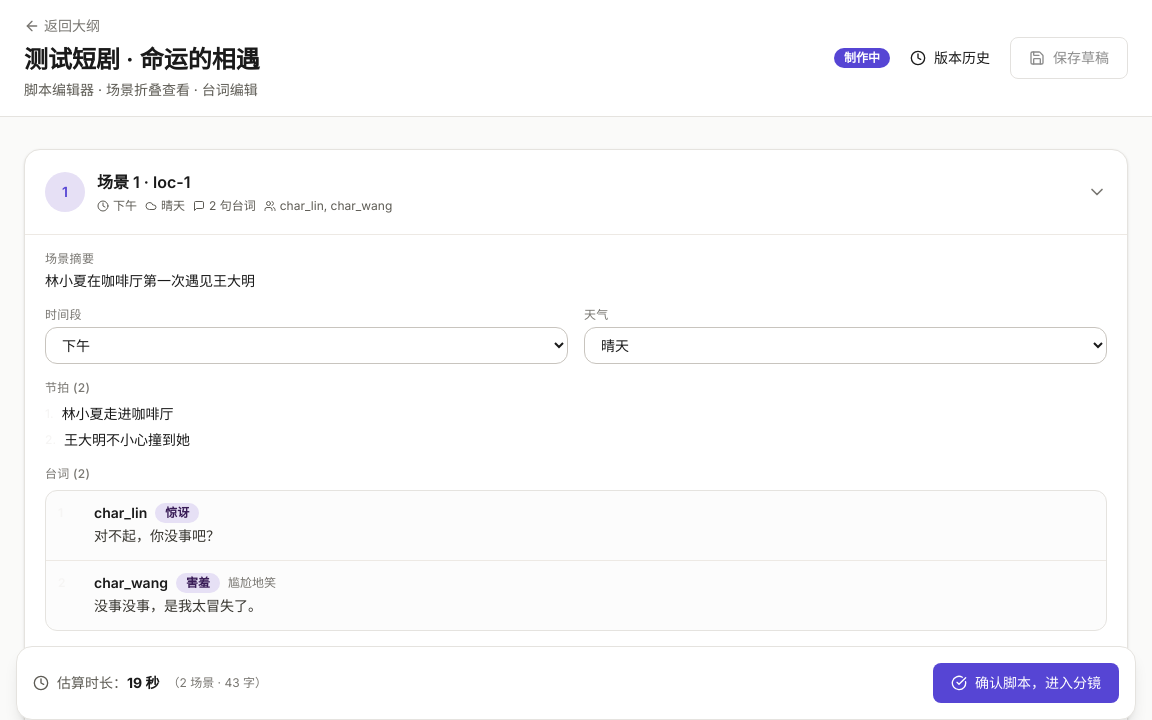
ScriptPage › Editing › marks dirty when scene summary is edited
Note: Click to edit the scene summary
Click the button "林小夏在咖啡厅第一次遇见王大明": click(150, 280) [45, 272, 255, 289]
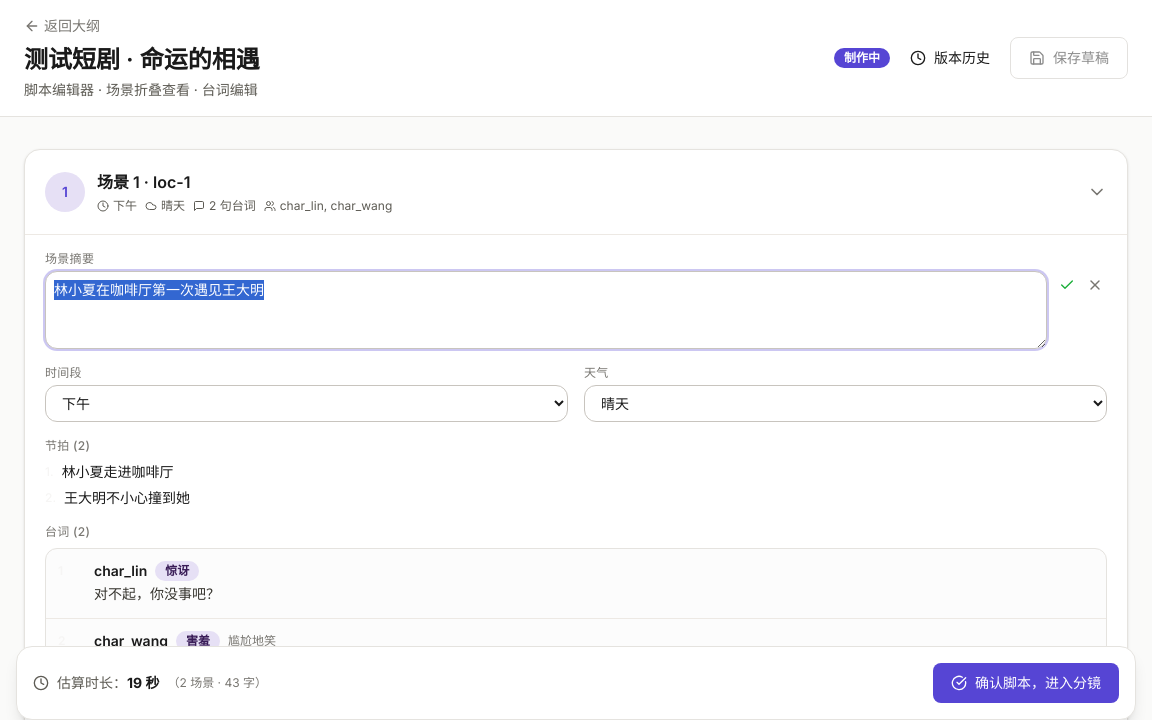
Note: Type new value
Replace the text in the text box showing "林小夏在咖啡厅第一次遇见王大明" with "修改后的场景摘要": (546, 310) [45, 271, 1047, 349]
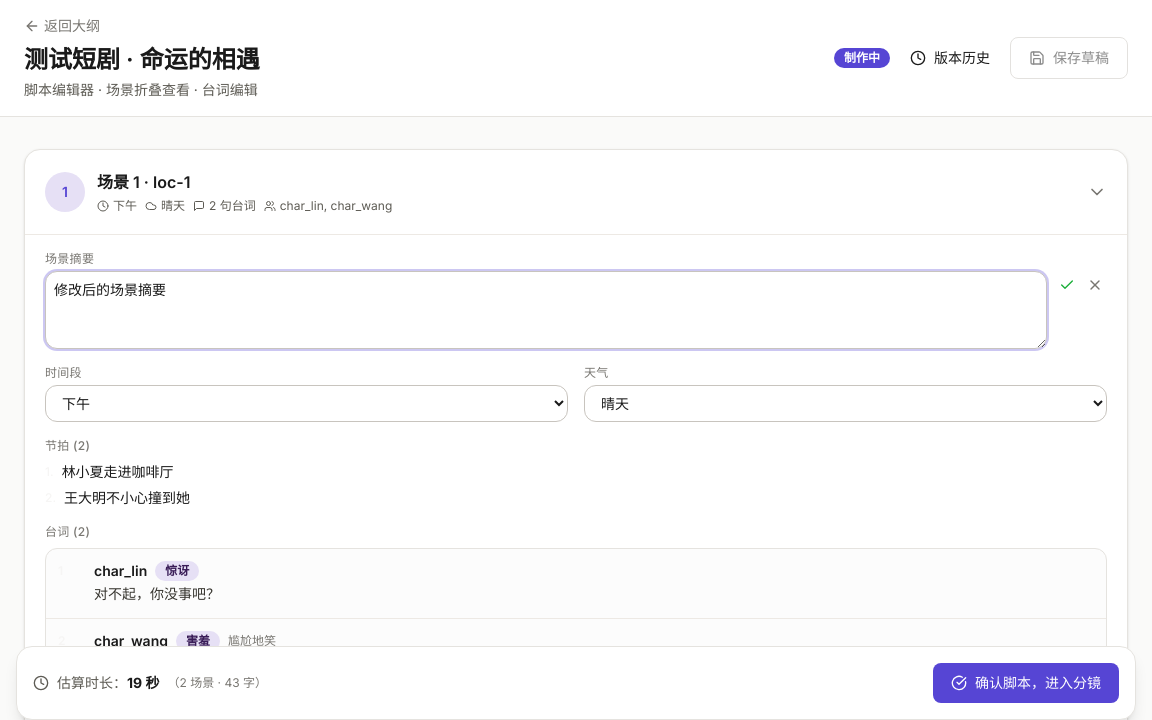
Press Tab
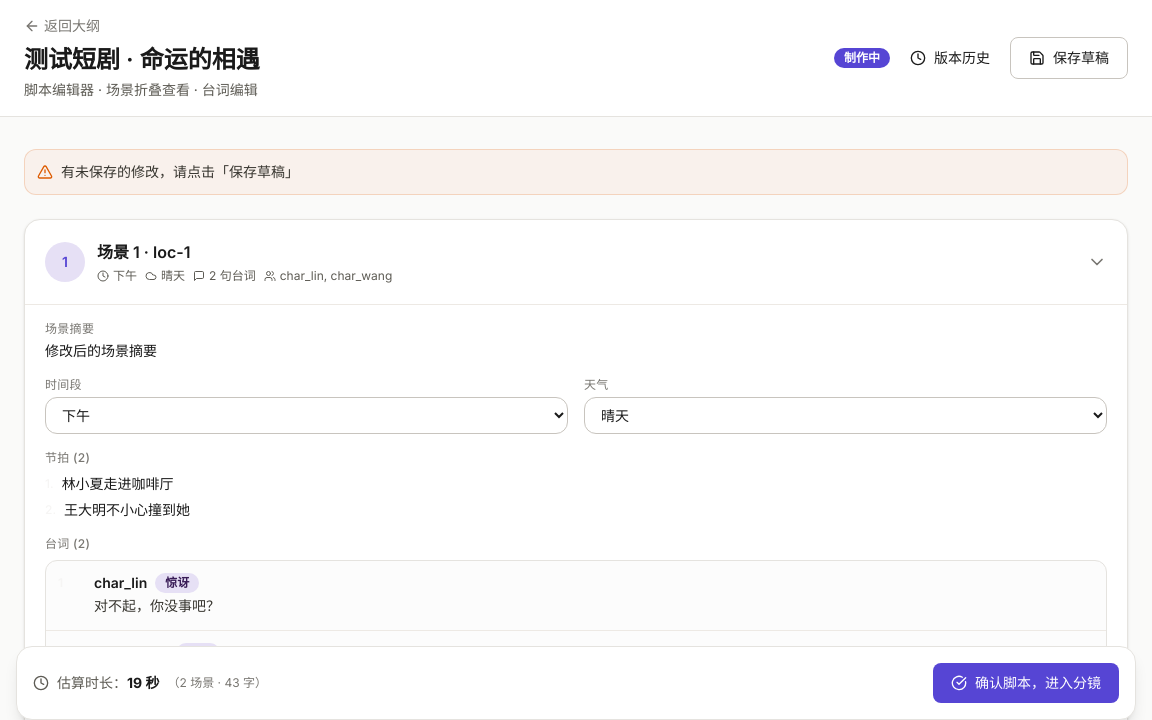
Expected: the button "修改后的场景摘要" is shown, [45, 342, 157, 359]
Expected: the text "有未保存的修改，请点击「保存草稿」" is shown, [61, 162, 299, 182]
